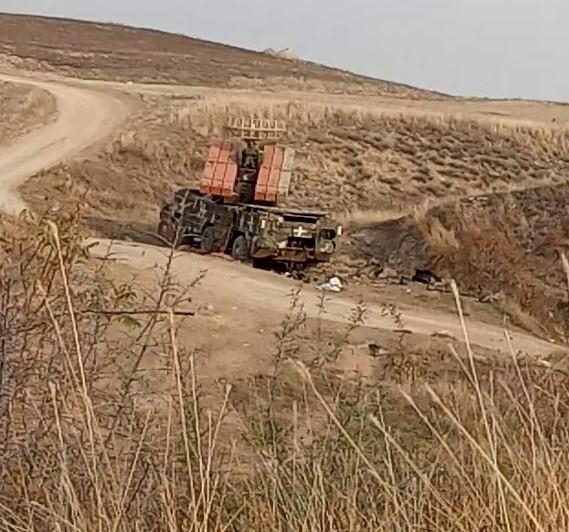MIL_SAM_TEL: (159, 109, 344, 282)
